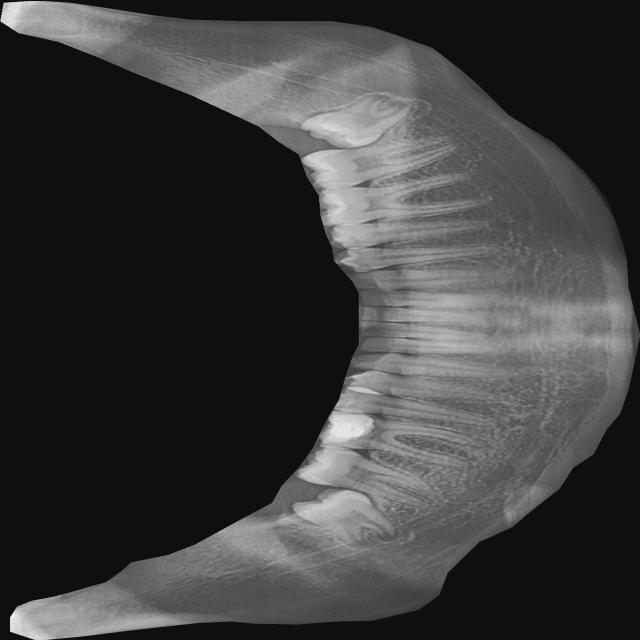mandibula: (0, 0, 640, 640)
